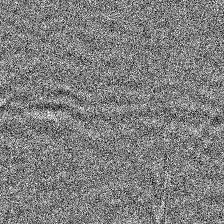cavities: (29, 103, 219, 221)
